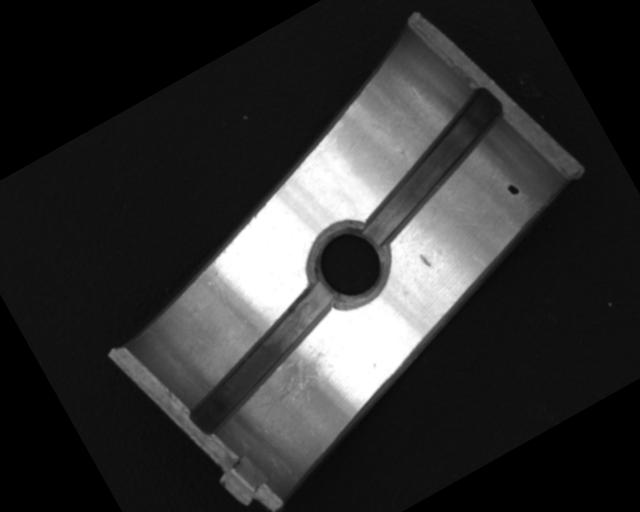blot: (505, 180, 522, 199)
bruise: (417, 252, 432, 270)
gap: (332, 85, 532, 248), (162, 280, 362, 440)
hole: (297, 211, 403, 316)
scratch: (241, 333, 353, 427)
